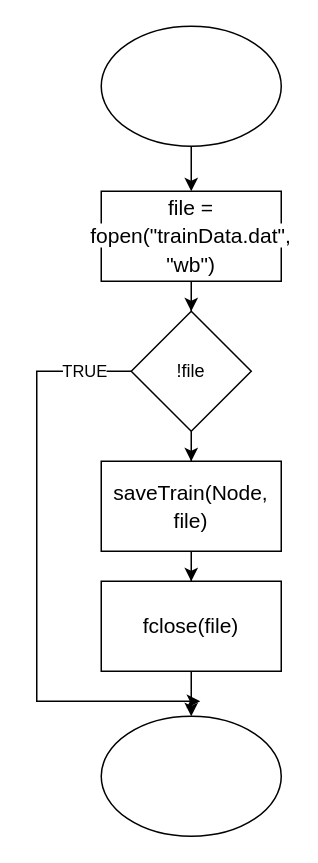
Some shapes in this 318 by 863 pixel diagram are drawn without their labels. Each missing label, with the centre of its shape:
"Конец" goes at [190,775].
"Начало saveTree" goes at [190,85].
